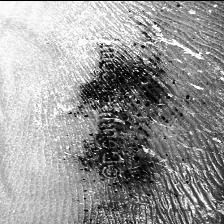Toxin: (76, 54, 191, 122)
